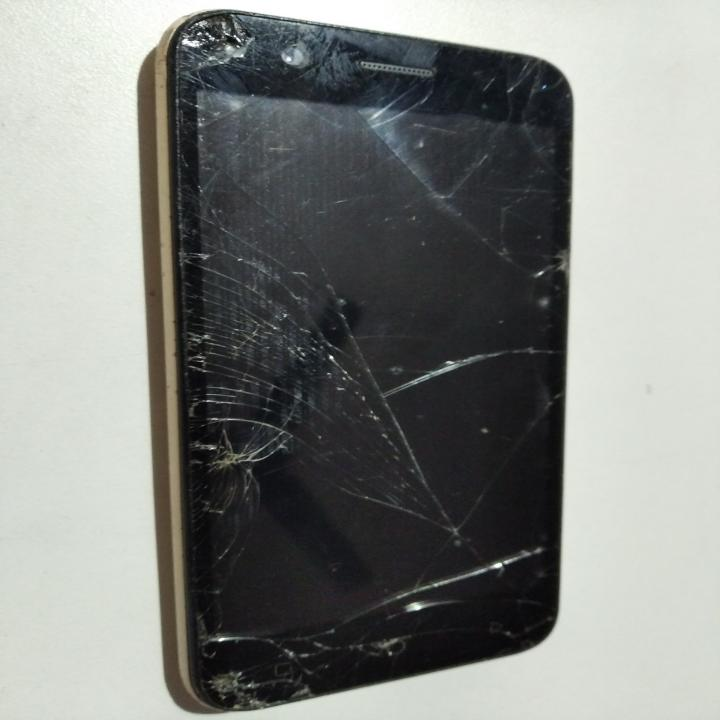Crack: (179, 297, 596, 696)
Dents: (176, 11, 567, 295), (144, 42, 170, 374)
